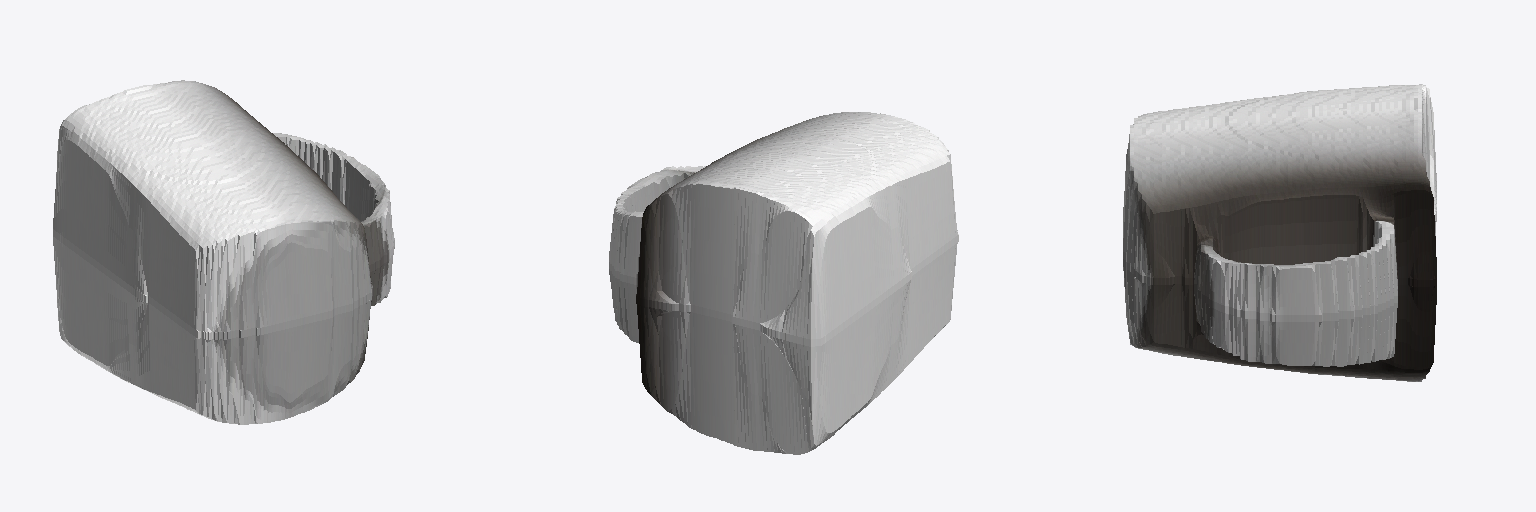
The picture shows the model from 3 angles: view 1: azimuth 30°, elevation 25°; view 2: azimuth 150°, elevation 25°; view 3: azimuth 270°, elevation 25°; orthographic projection.
Visible parts, largest first — view 1: Grid; view 2: Grid; view 3: Grid.
Part boxes in pixels (x1,y1,x2,y2): Grid: (53,80,394,424); Grid: (609,112,958,454); Grid: (1123,84,1436,381).
Size of the model in its own units: 1.46 by 1.4 by 1.55.
2 materials, 1 textured.